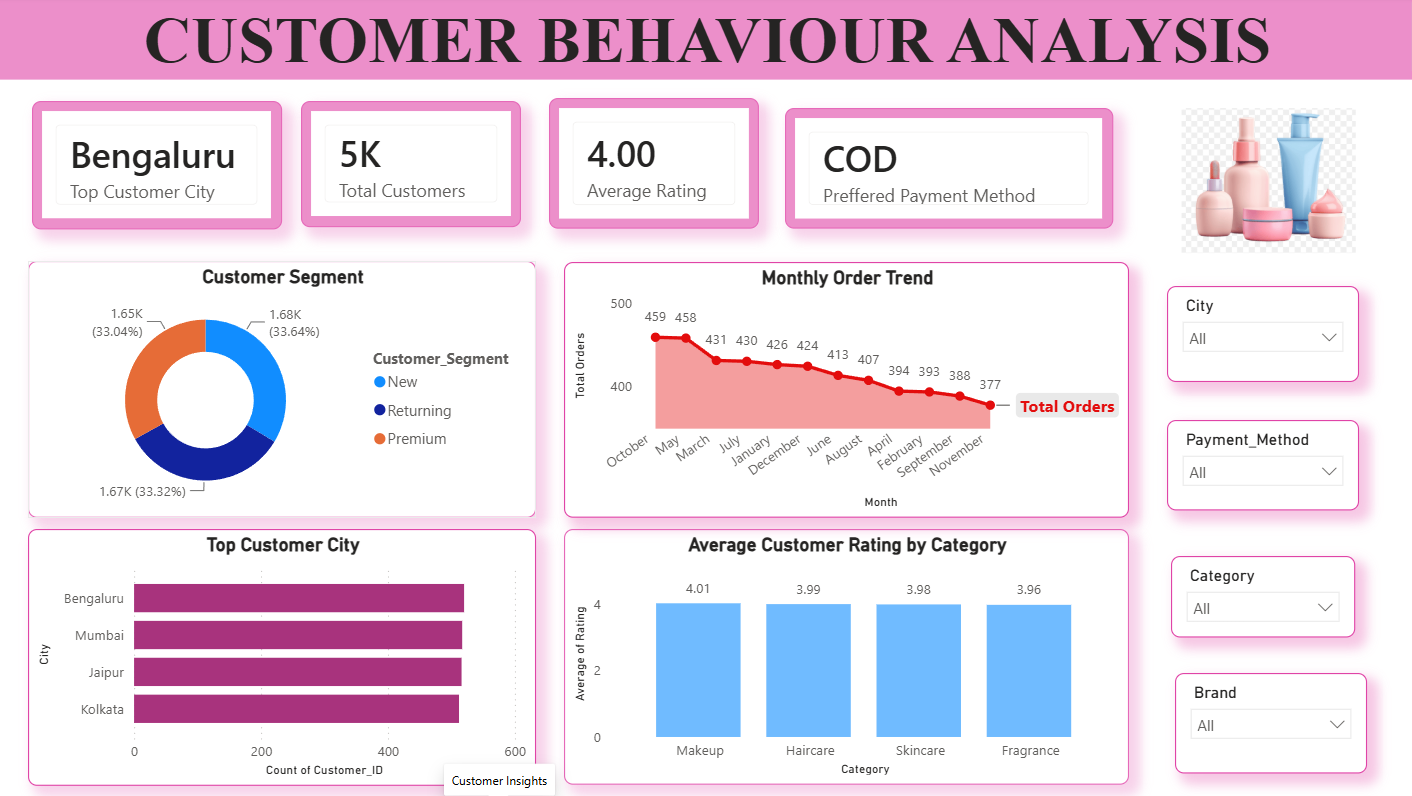

Layout of this report page (visuals, bound fields, positions):
{"tool":"powerbi","page":{"name":"Customer Insights","canvas":[1280,720],"ordinal":2},"visuals":[{"type":"textbox","box":[0,0,1279.7,74.3],"z":0},{"type":"cardVisual","fields":{"Data":["CountNonNull(Sales.Customer_ID)"]},"box":[272.2,93.1,197,112.8],"z":1000},{"type":"cardVisual","fields":{"Data":["Min(Sales.City)"]},"box":[31.3,93.1,223.9,114.6],"z":2000},{"type":"cardVisual","fields":{"Data":["Avg(Sales.Rating)"]},"box":[494.3,90.4,188.1,117.3],"z":3000},{"type":"cardVisual","fields":{"Data":["Min(Sales.Payment_Method)"]},"box":[705.7,99.4,293.7,108.4],"z":4000},{"type":"donutChart","title":"Customer Segment ","fields":{"Y":["CountNonNull(Sales.Customer_ID)"],"Category":["Sales.Customer_Segment"]},"box":[27.8,236.4,454.9,230.1],"z":5000},{"type":"clusteredColumnChart","title":"Average Customer Rating by Category","fields":{"Category":["Sales.Category"],"Y":["Avg(Sales.Rating)"]},"box":[507.8,476.4,506,229.3],"z":6000},{"type":"barChart","title":"Top Customer City","fields":{"Category":["Sales.City"],"Y":["CountNonNull(Sales.Customer_ID)"]},"box":[28,476,455,230],"z":7000},{"type":"lineChart","title":"Monthly Order Trend ","fields":{"Category":["Sales.Month"],"Y":["Sales.Total Orders"]},"box":[507.8,237.3,506,229.3],"z":8000},{"type":"slicer","fields":{"Values":["Sales.Category"]},"box":[1051.3,500.6,164.8,72.5],"z":9000},{"type":"slicer","fields":{"Values":["Sales.Brand"]},"box":[1054.9,605.4,171.9,90.4],"z":10000},{"type":"slicer","fields":{"Values":["Sales.City"]},"box":[1047.8,258.8,171.9,86],"z":11000},{"type":"slicer","fields":{"Values":["Sales.Payment_Method"]},"box":[1047.8,378.8,171.9,80.6],"z":12000},{"type":"image","box":[1021.8,99.4,234.6,129.9],"z":13000}]}

Visuals, with their boxes in screenshot pixels (x1, y1, x2, y2), scaled from the page's 1280x720 canvas onto the 1412x796 screenshot:
textbox: {"x1": 0, "y1": 0, "x2": 1411, "y2": 82}
cardVisual - CountNonNull(Sales.Customer_ID): {"x1": 300, "y1": 103, "x2": 518, "y2": 228}
cardVisual - Min(Sales.City): {"x1": 35, "y1": 103, "x2": 282, "y2": 230}
cardVisual - Avg(Sales.Rating): {"x1": 545, "y1": 100, "x2": 753, "y2": 230}
cardVisual - Min(Sales.Payment_Method): {"x1": 778, "y1": 110, "x2": 1102, "y2": 230}
"Customer Segment " donutChart: {"x1": 31, "y1": 261, "x2": 532, "y2": 516}
"Average Customer Rating by Category" clusteredColumnChart: {"x1": 560, "y1": 527, "x2": 1118, "y2": 780}
"Top Customer City" barChart: {"x1": 31, "y1": 526, "x2": 533, "y2": 781}
"Monthly Order Trend " lineChart: {"x1": 560, "y1": 262, "x2": 1118, "y2": 516}
slicer - Sales.Category: {"x1": 1160, "y1": 553, "x2": 1342, "y2": 634}
slicer - Sales.Brand: {"x1": 1164, "y1": 669, "x2": 1353, "y2": 769}
slicer - Sales.City: {"x1": 1156, "y1": 286, "x2": 1345, "y2": 381}
slicer - Sales.Payment_Method: {"x1": 1156, "y1": 419, "x2": 1345, "y2": 508}
image: {"x1": 1127, "y1": 110, "x2": 1386, "y2": 254}
